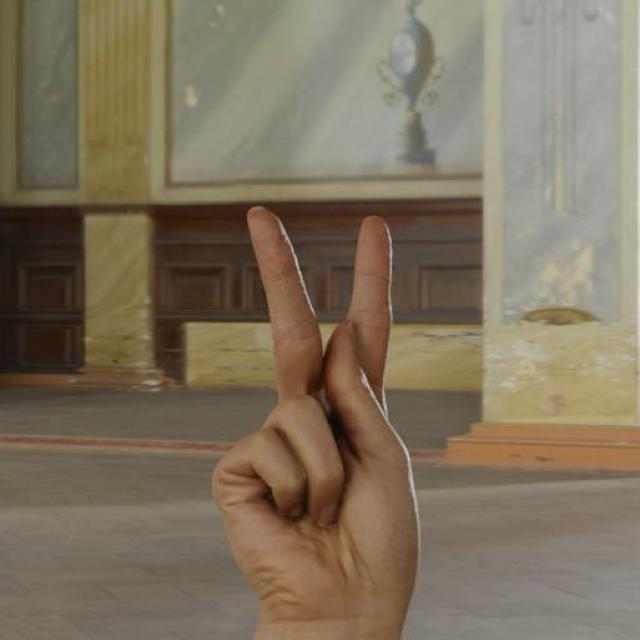K: (208, 200, 430, 631)
